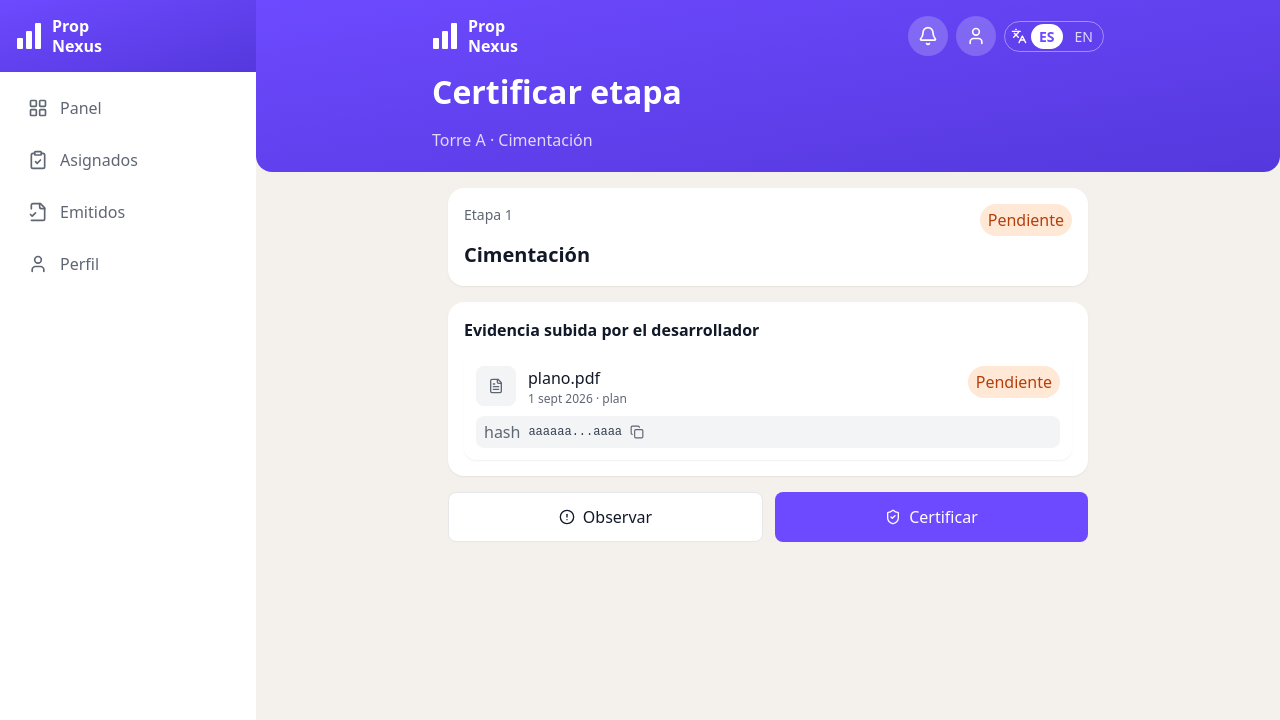
/certifier/stage/$stageId › un error al certificar muestra el mensaje de error de la pantalla
The image size is (1280, 720).
Expected: the text "plano.pdf" is shown, [528,367,600,389]
Step 1. Click the button with test id "CER-CERTIFY-001" → (932, 517), box [775,492,1088,542]
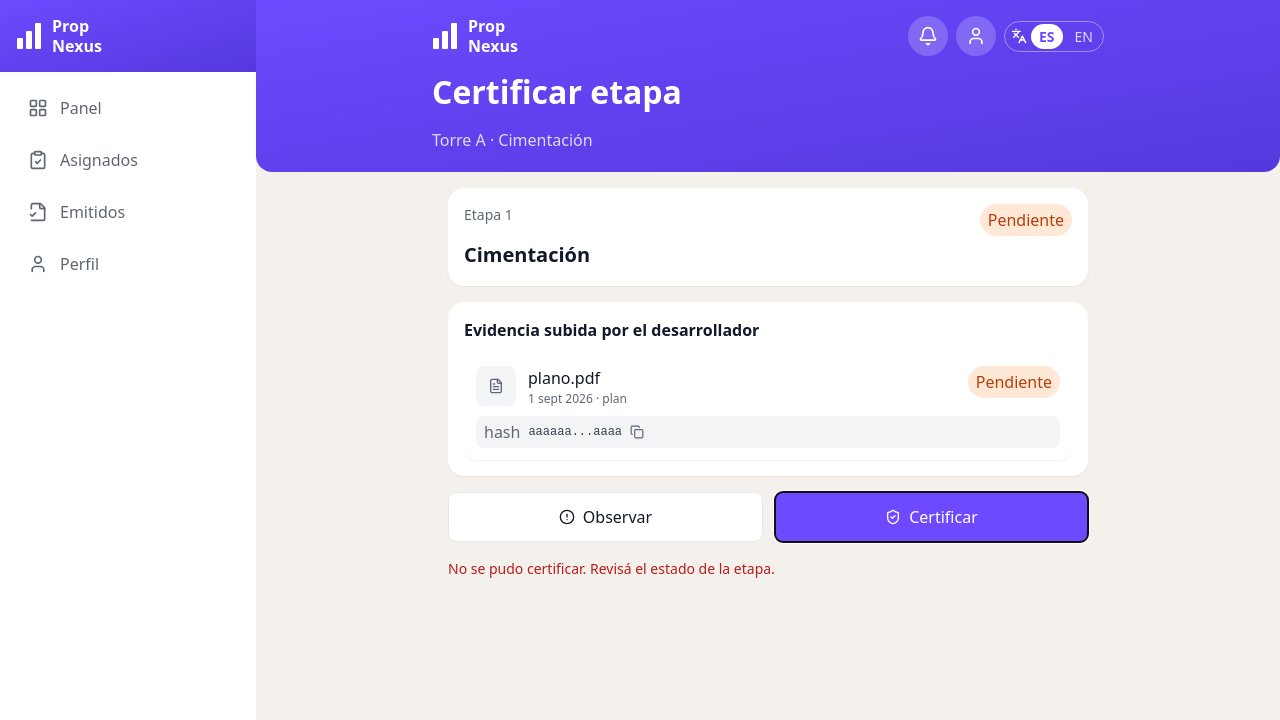
Now the text "No se pudo certificar. Revisá el estado de la etapa." is shown, box [448,559,775,578]
